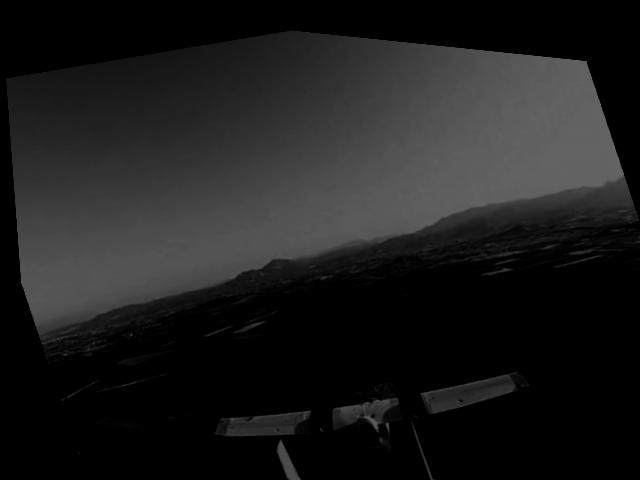hedef: (160, 277, 569, 480)
